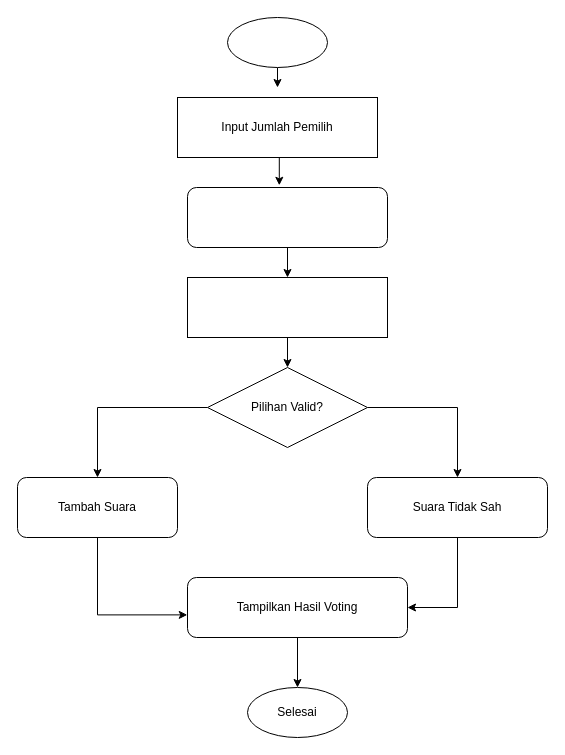
Some shapes in this 565 by 755 pixel diagram are drawn without their labels. Here are the shapes that lost their labels. From the top down, the centre of each, then its label:
At point 277,42: "Mulai".
At point 287,217: "Tampilkan Kandidat".
At point 287,307: "Input Pilihan".
